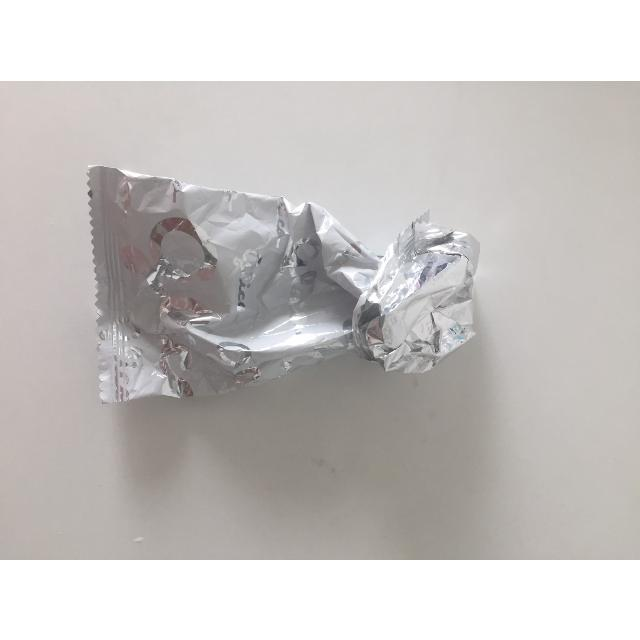Paquete de plastico: (89, 166, 480, 405)
